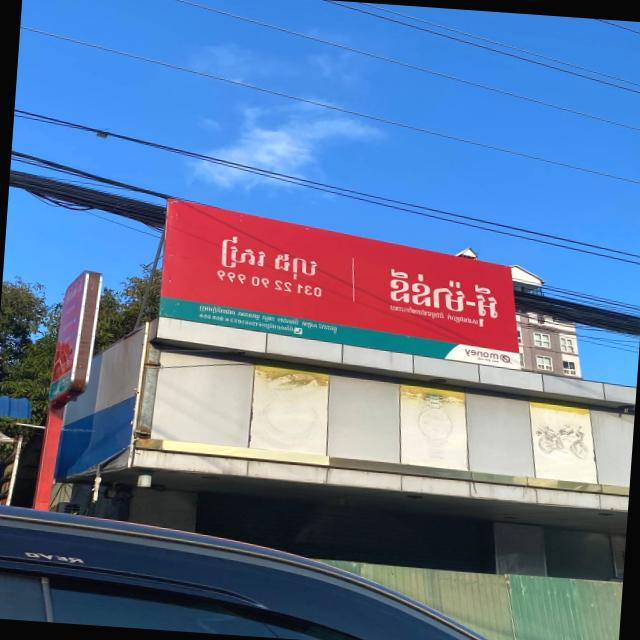1: (208, 225, 326, 285)
338: (212, 268, 326, 300)
Yolov11_80vkh: (380, 263, 507, 334)
